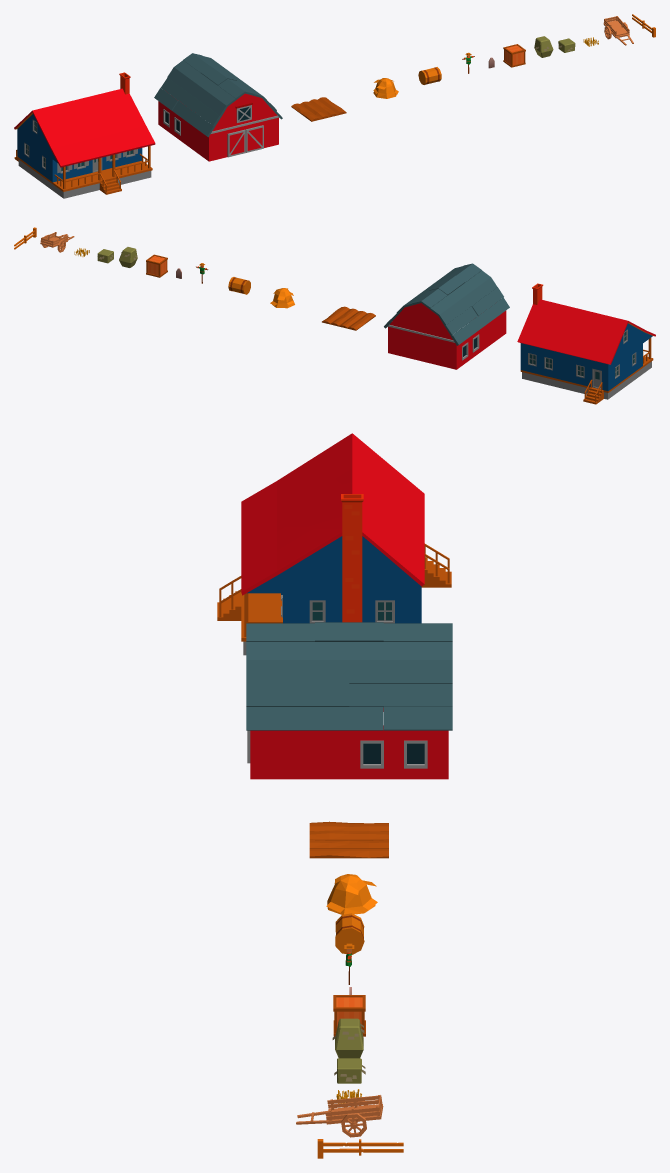
Rendered from Village.fbx.
3 renders of one model, top to bottom at view 1: azimuth 30°, elevation 25°; view 2: azimuth 150°, elevation 25°; view 3: azimuth 270°, elevation 25°, orthographic. The views are drawn at different scales.
Visible parts, largest first — view 1: building-house-family-small, farm-house, farm-house.001, 1, Cube, hay-pile, haystack, Bush001; view 2: building-house-family-small, farm-house, farm-house.001, Cube, 1, hay-pile, haystack, Bush001; view 3: farm-house, building-house-family-small, farm-house.001, 1, hay-pile, Bush001.
Part boxes in pixels (x1,y1,x2,y2): building-house-family-small: (14,72,155,198); farm-house: (154,53,282,161); farm-house.001: (291,97,346,121); 1: (603,16,633,45); Cube: (503,44,525,67); hay-pile: (373,78,398,98); haystack: (418,67,441,84); Bush001: (534,36,553,57); building-house-family-small: (517,283,655,404); farm-house: (384,263,509,369); farm-house.001: (322,306,375,330); Cube: (146,254,167,277); 1: (40,232,74,252); hay-pile: (270,288,294,308); haystack: (228,277,250,294); Bush001: (119,247,137,267); farm-house: (246,622,452,779); building-house-family-small: (217,433,451,655); farm-house.001: (309,821,388,858); 1: (296,1095,383,1137); hay-pile: (326,874,377,914); Bush001: (332,1018,364,1058).
Bounding box in the file's own units: 7015 × 904 × 1185.
